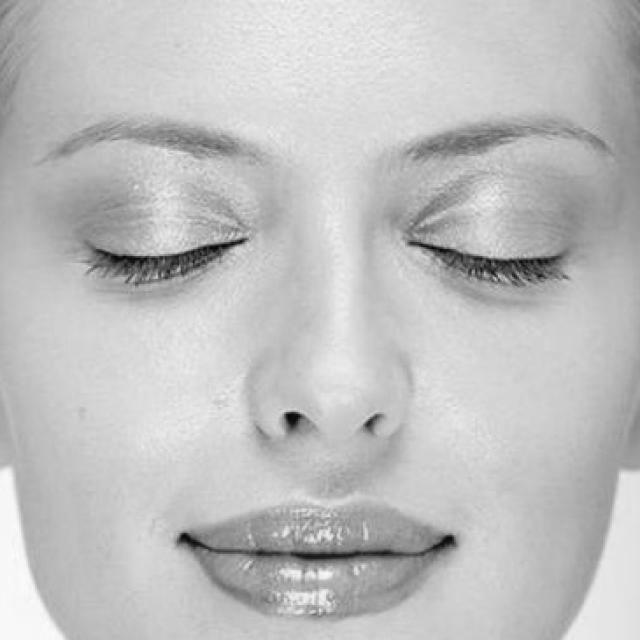real: (42, 0, 586, 640), (78, 193, 620, 331)
